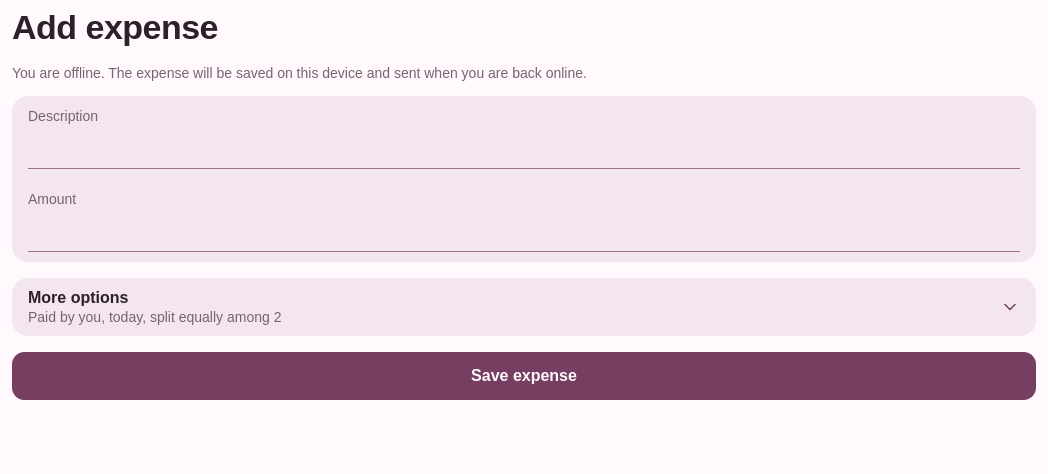
ExpenseEditorPage › offline drafts › says so when the draft cannot be stored on this device
Type "Dinner" into the field labelled "Description" at point(524, 149), box left=28, top=129, right=1020, bottom=169
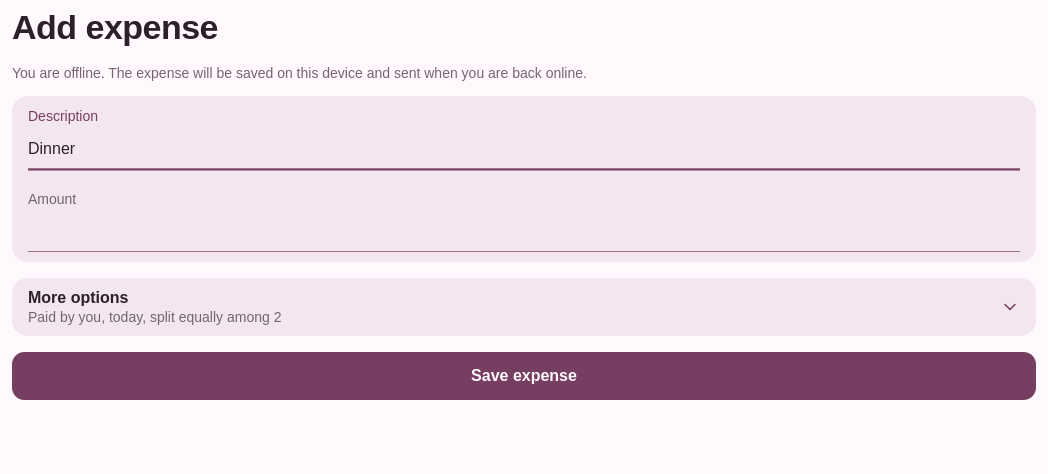
Type "10.01" into the field labelled "Amount" at point(524, 232), box left=28, top=212, right=1020, bottom=252
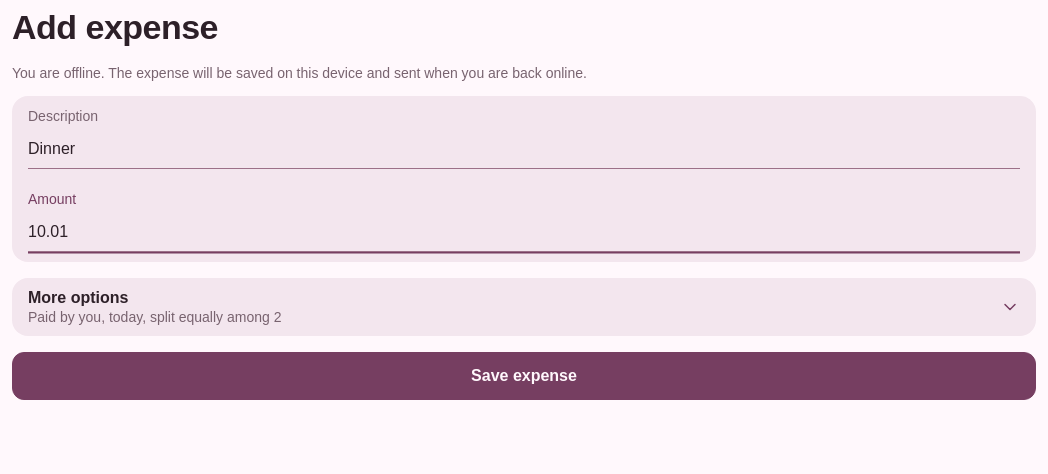
Click the button "Save expense" at point(524, 376), box left=12, top=352, right=1036, bottom=400
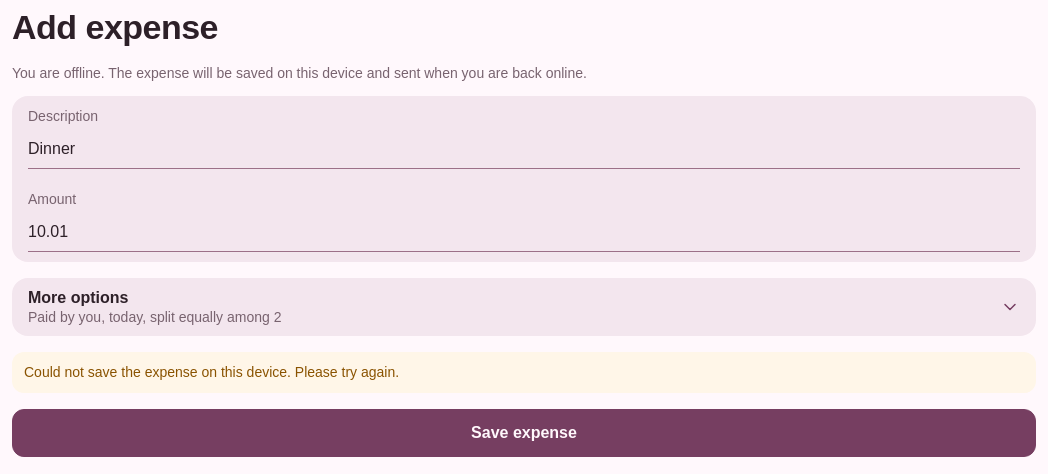
Now the message "Could not save the expense on this device. Please try again." is shown, box left=12, top=352, right=1036, bottom=393
